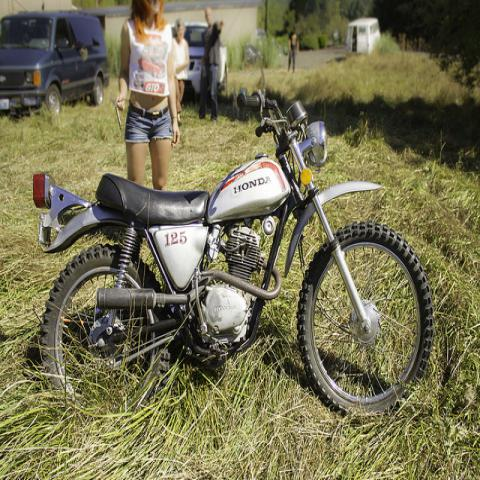car: (0, 15, 111, 121), (182, 24, 210, 101)
motorcycle: (22, 74, 443, 423)
